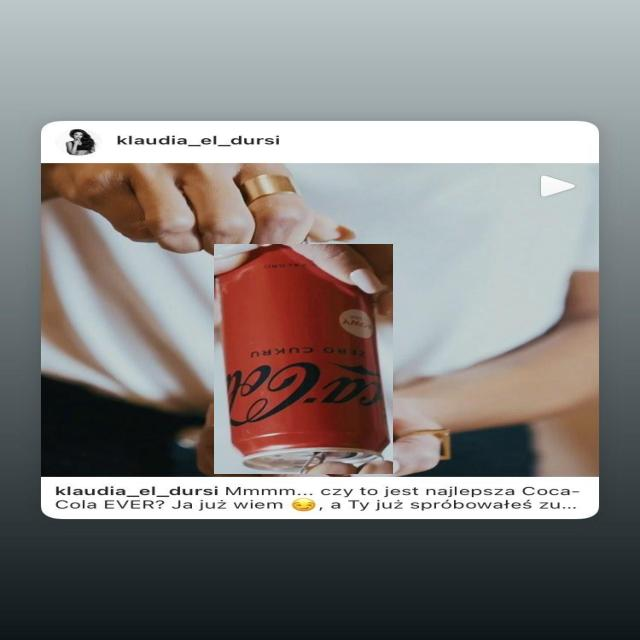coca-cola: (214, 244, 393, 474)
